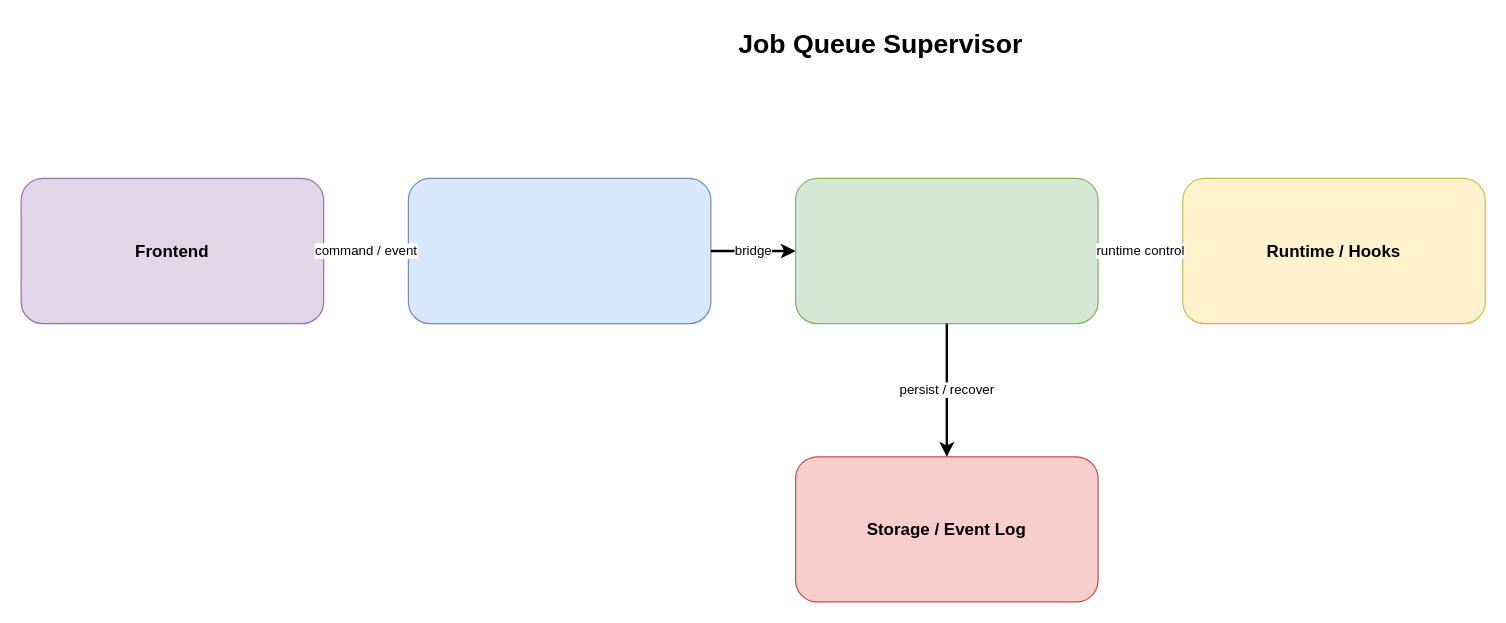
This 1506x623 diagram has some shape labels left out. The shapes that lost their labels are listed below. From the top down, each one's box as (x1, y1, x2, y2) in pixels, then its label:
(407, 177, 711, 324): Desktop Host
(794, 177, 1098, 324): Backend / Daemon
